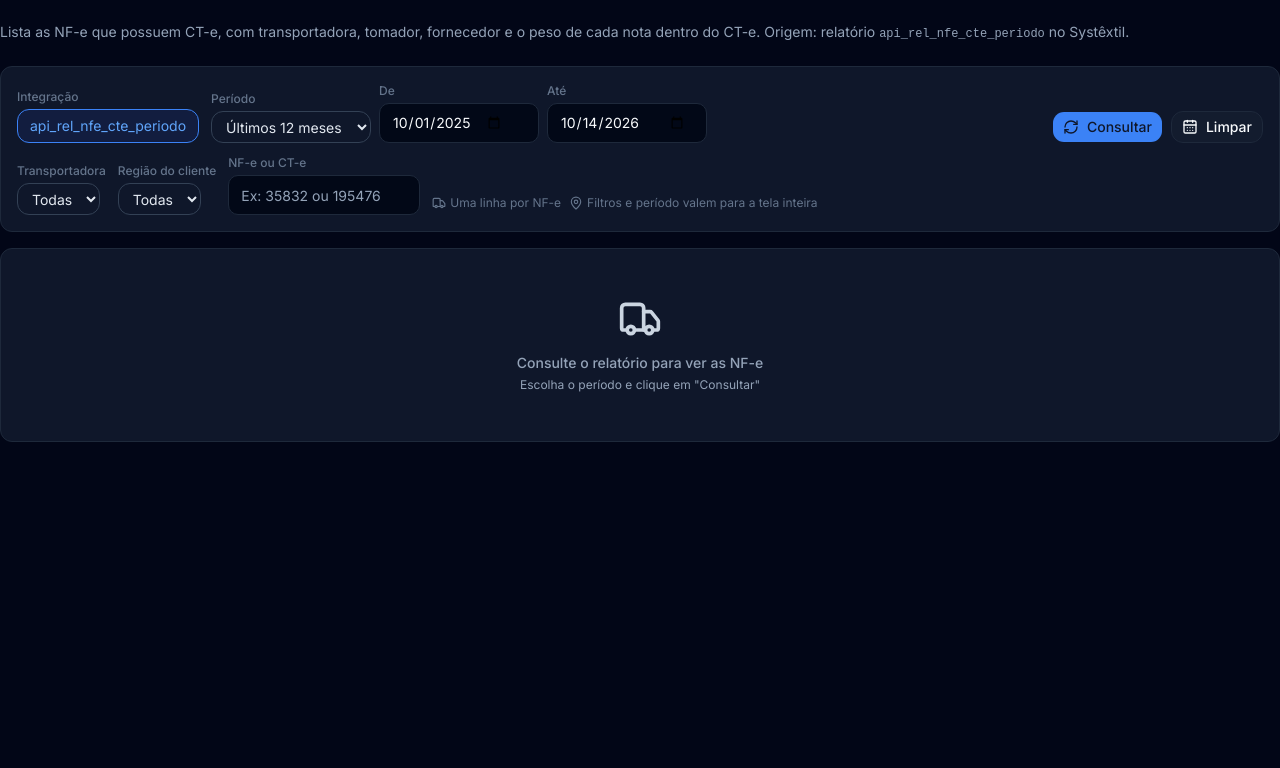
NfeCtePage › pede os dados no proxy da integração ao consultar
Expected: the button "api_rel_nfe_cte_periodo" is shown, [17,109,199,143]
Step 1. Click the button "Consultar" → (1107, 127), box [1052,111,1163,143]
(page scrolled)
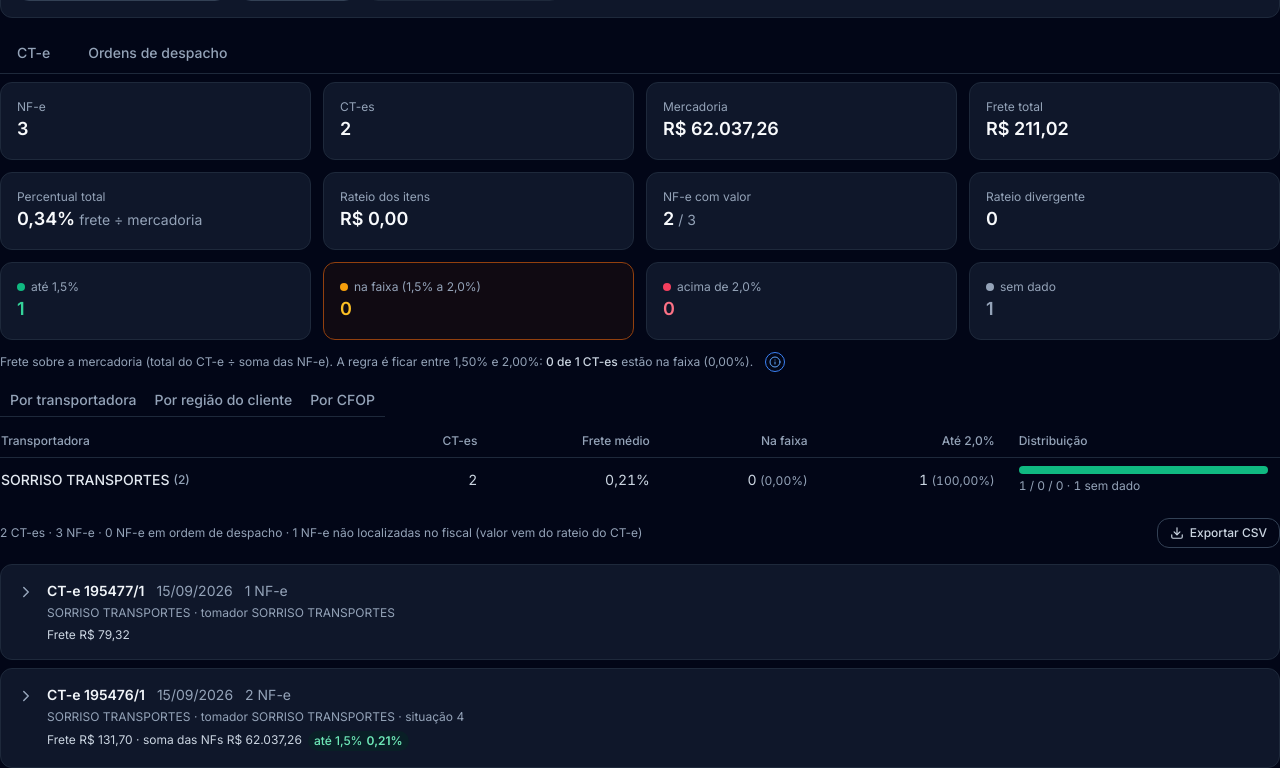
Now the text "CT-e 195476/1" is shown, box [47,685,145,705]
